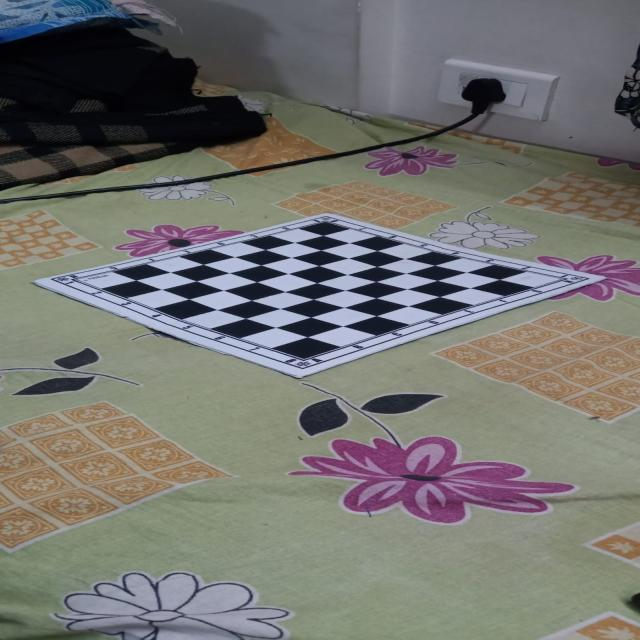corners: (288, 372, 309, 383), (26, 276, 44, 288), (594, 273, 614, 282), (319, 210, 336, 218)
